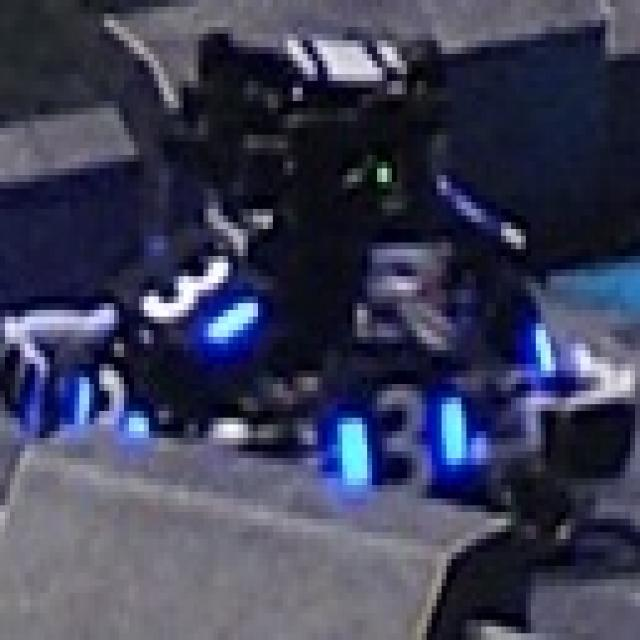B3: (318, 364, 477, 505), (124, 222, 253, 350)
